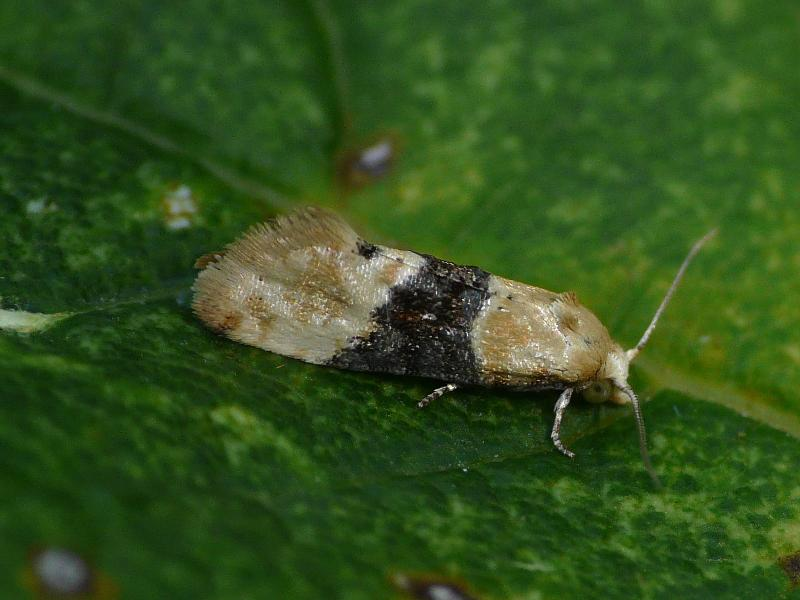Eupoecilia Ambiguella: (189, 206, 713, 458)
